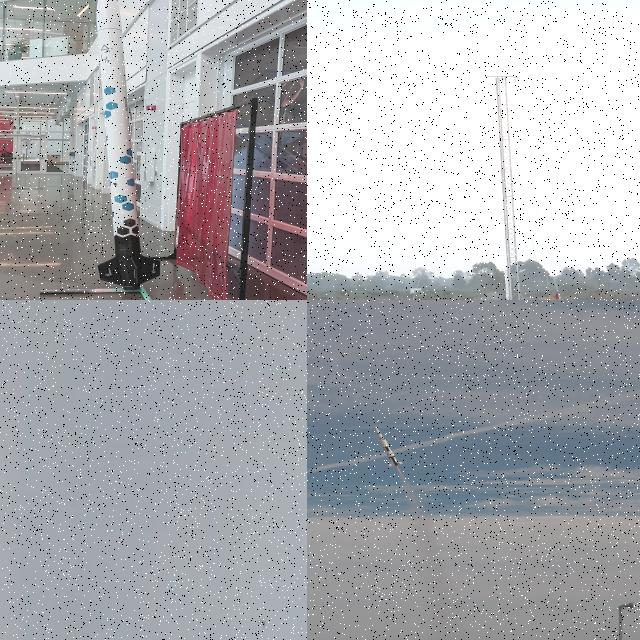Rocket: (96, 0, 161, 290), (374, 426, 403, 466), (504, 266, 516, 300), (258, 619, 266, 628)
